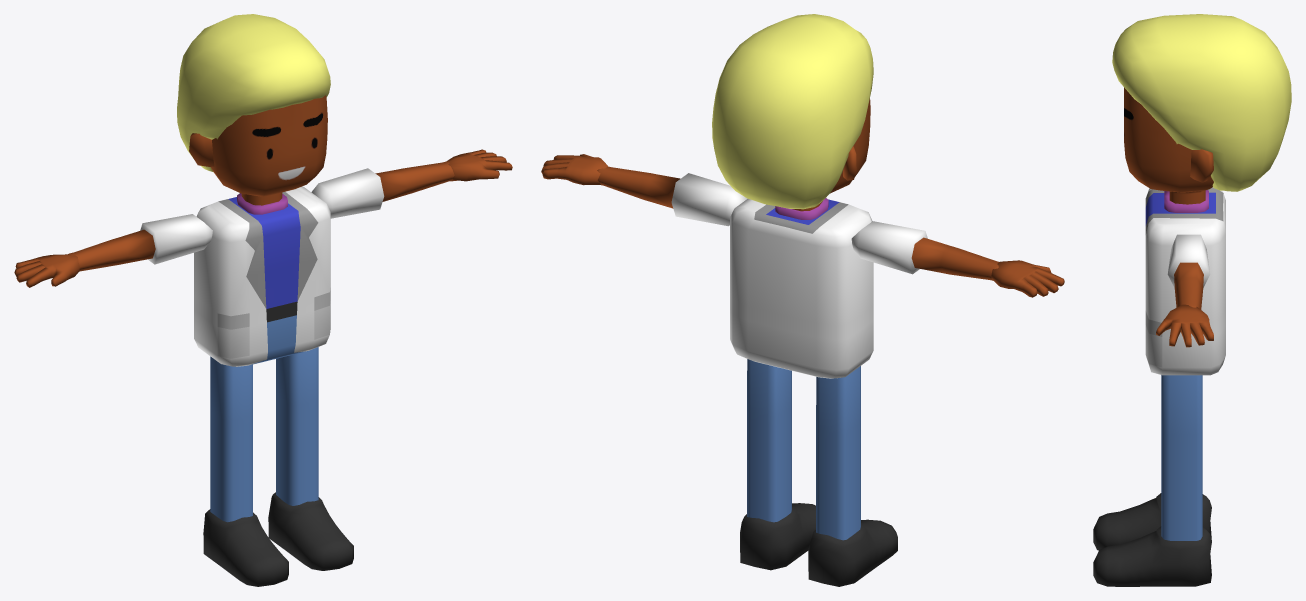
File: NPC_Yellow02_BlondeHair04.gltf
The picture shows the model from 3 angles, left to right: view 1: azimuth 30°, elevation 25°; view 2: azimuth 150°, elevation 25°; view 3: azimuth 270°, elevation 25°; orthographic projection. The views are drawn at different scales.
Parts seen in each view (by area): view 1: NPC_Corpo_Yellow2_BlondeHair.004; view 2: NPC_Corpo_Yellow2_BlondeHair.004; view 3: NPC_Corpo_Yellow2_BlondeHair.004.
Boxes of the visible parts, x1,y1,x2,y2 form: NPC_Corpo_Yellow2_BlondeHair.004: [14, 14, 512, 586]; NPC_Corpo_Yellow2_BlondeHair.004: [541, 14, 1064, 586]; NPC_Corpo_Yellow2_BlondeHair.004: [1093, 14, 1291, 586].
Size of the model in its own units: 2.31 by 2.3 by 0.7742.
1 material, 1 textured.
